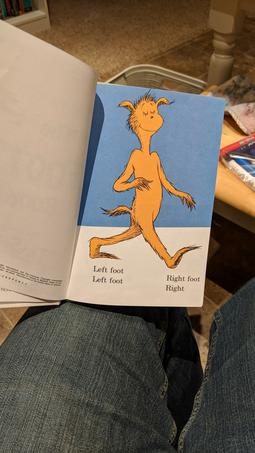text block: (157, 269, 203, 300), (90, 258, 130, 293)
